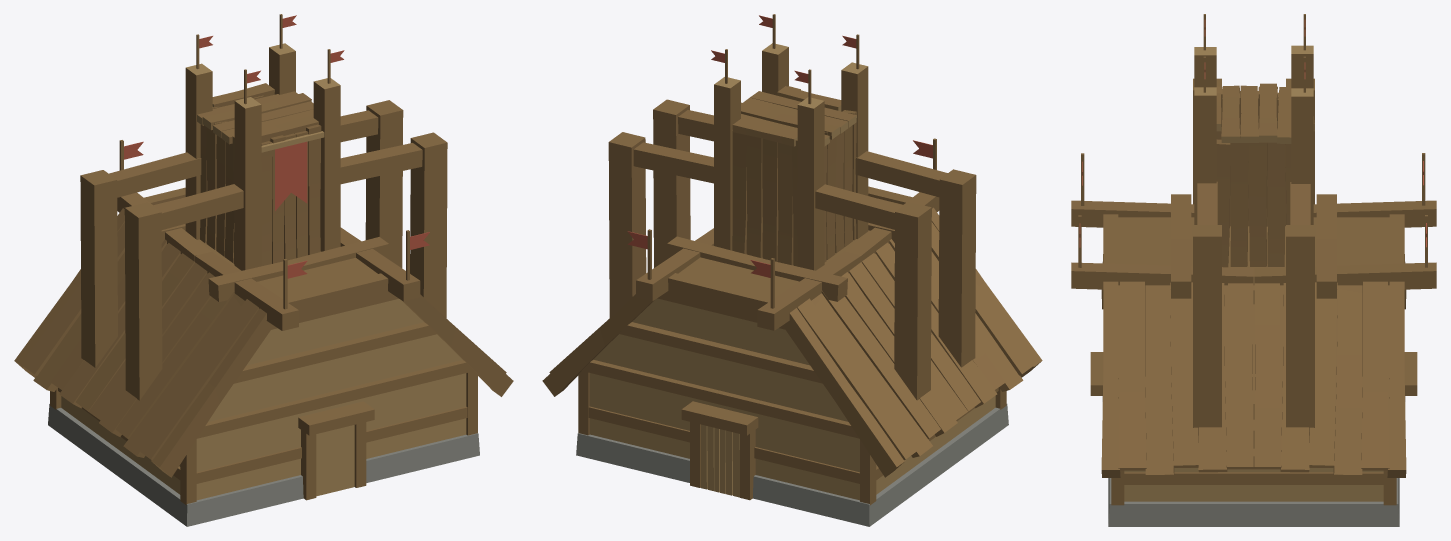
File: Wooden house tower.glb
3 renders of one model, left to right at view 1: azimuth 30°, elevation 25°; view 2: azimuth 150°, elevation 25°; view 3: azimuth 270°, elevation 25°, orthographic. The views are drawn at different scales.
Parts seen in each view (by area): view 1: TowerHouse_FirstAge; view 2: TowerHouse_FirstAge; view 3: TowerHouse_FirstAge.
Part boxes in pixels (bbox=[...]): TowerHouse_FirstAge: bbox=[14, 14, 513, 526]; TowerHouse_FirstAge: bbox=[542, 14, 1042, 526]; TowerHouse_FirstAge: bbox=[1071, 14, 1436, 526].
Bounding box in the file's own units: 1.39 × 1.47 × 1.17.
